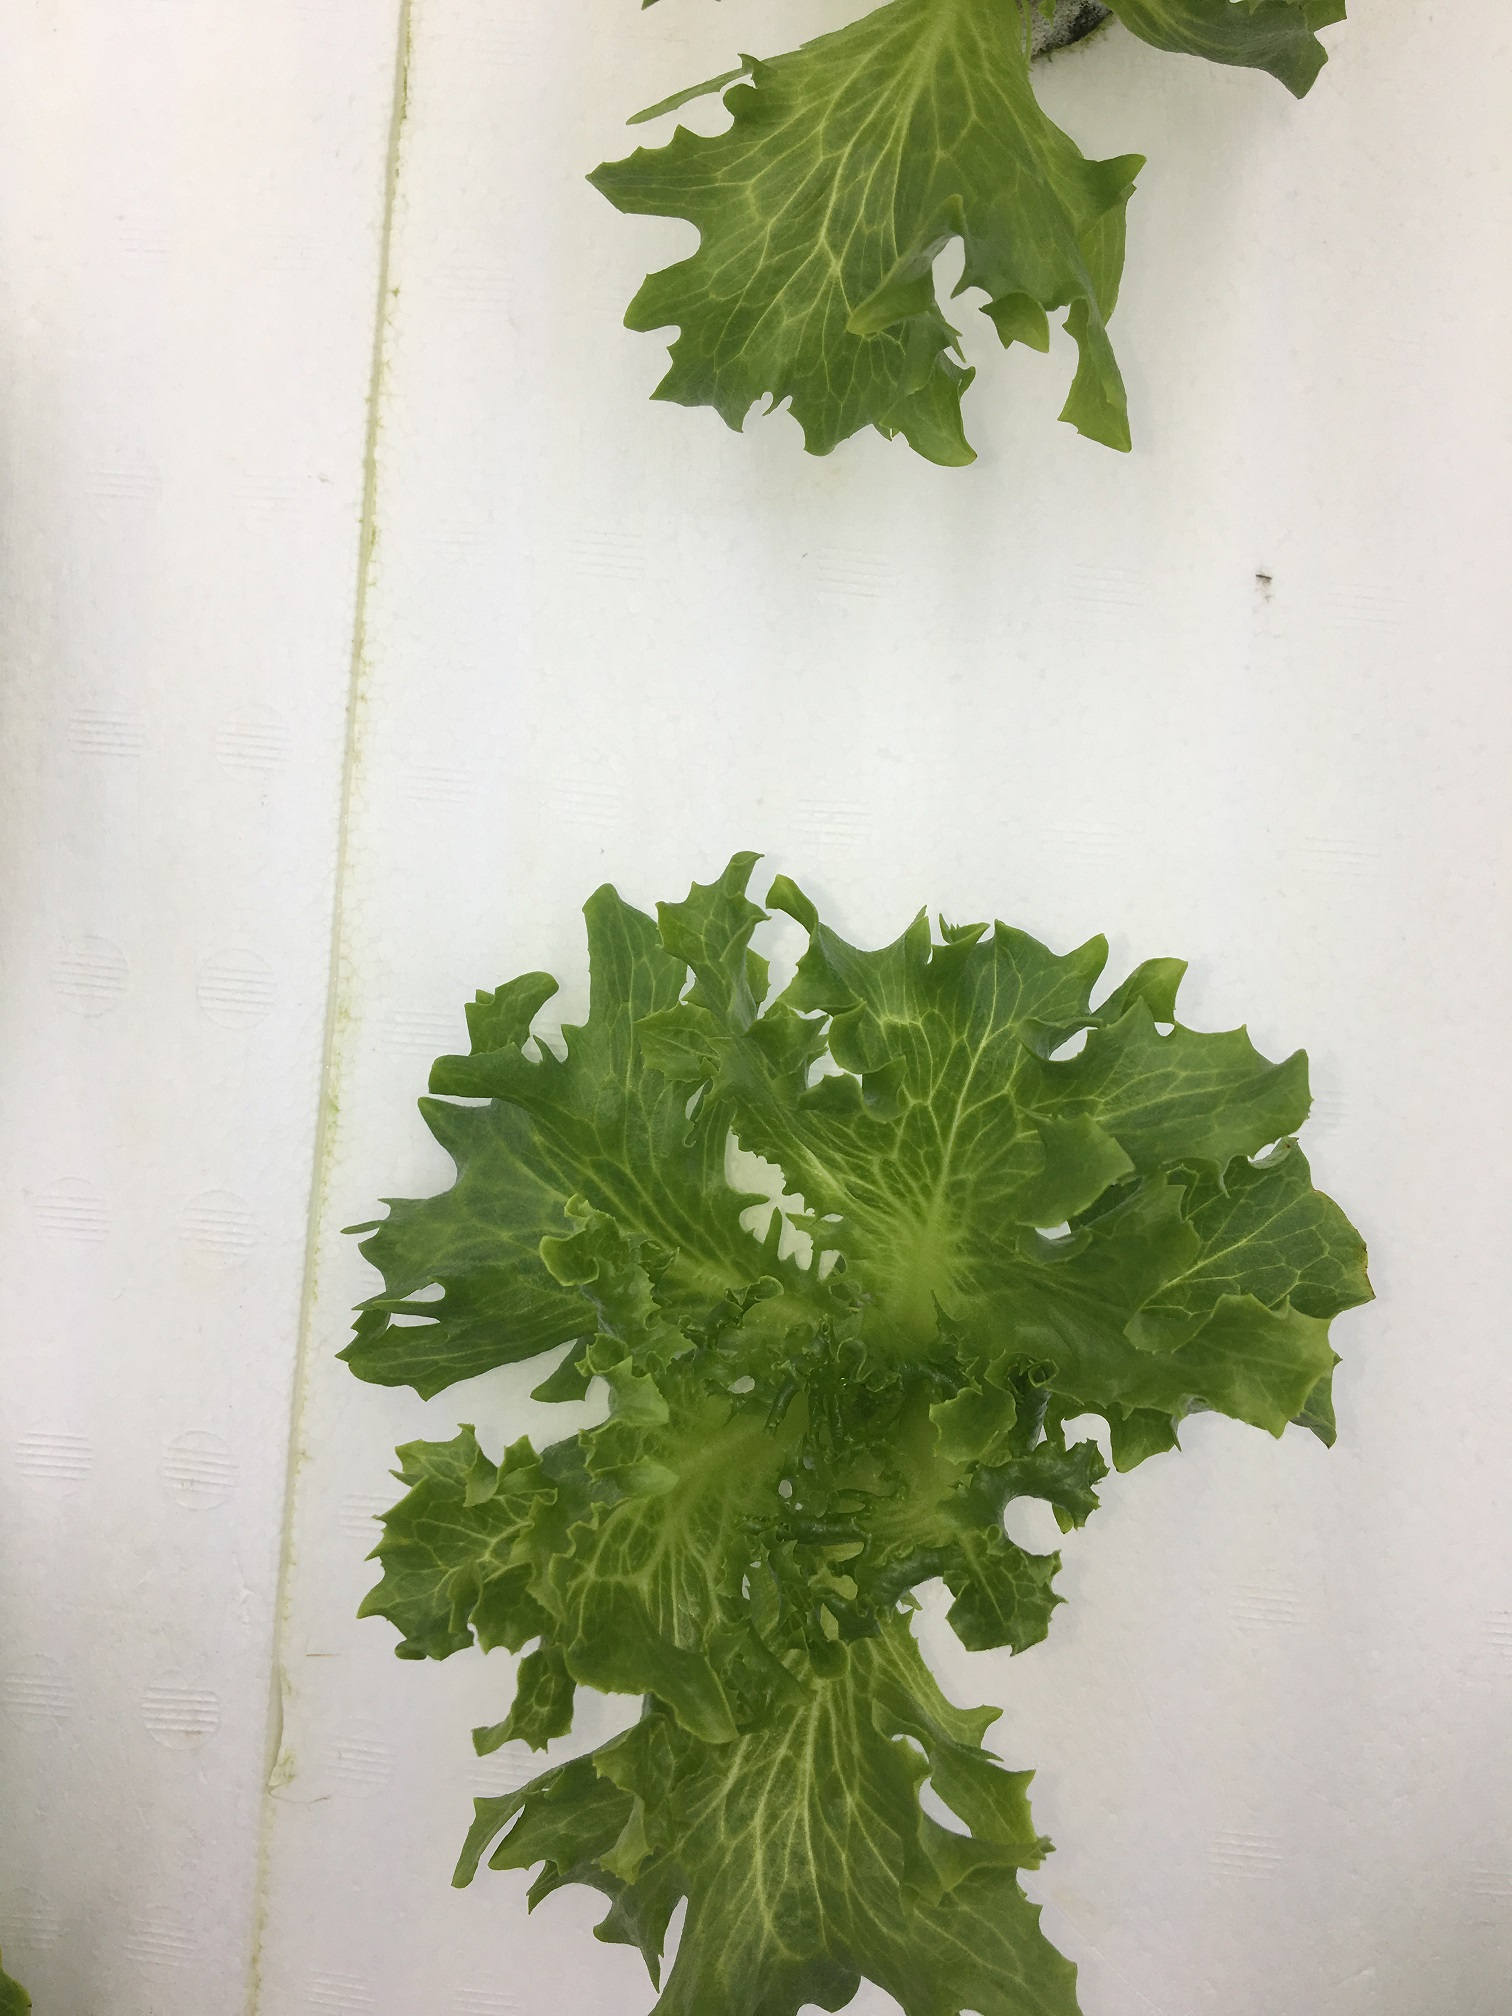tipburn: (1355, 1232, 1382, 1260), (1282, 1132, 1306, 1157), (1317, 1435, 1342, 1457)
